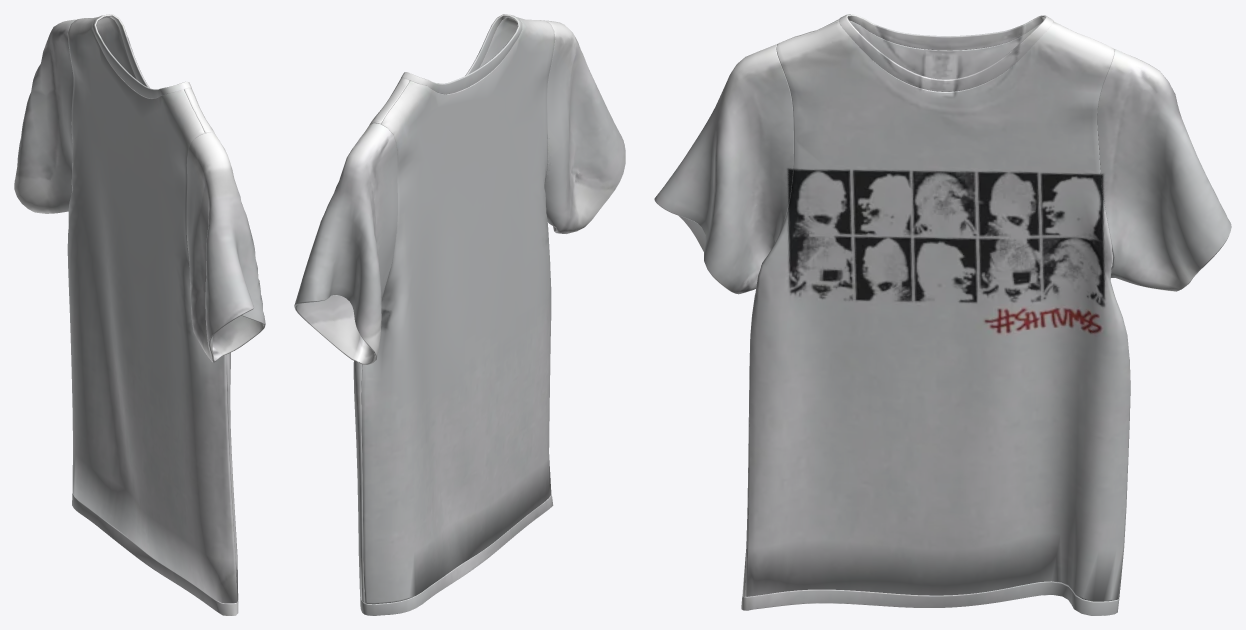
File: shitumss-tee.glb
3 views of the same model, side by side, from view 1: azimuth 30°, elevation 25°; view 2: azimuth 150°, elevation 25°; view 3: azimuth 270°, elevation 25° (orthographic). The views are drawn at different scales.
Visible parts, largest first — view 1: bottom_mesh_n3d%2E001_n3d; view 2: bottom_mesh_n3d%2E001_n3d; view 3: bottom_mesh_n3d%2E001_n3d.
Part boxes in pixels (x1,y1,x2,y2): bottom_mesh_n3d%2E001_n3d: (14, 14, 265, 615); bottom_mesh_n3d%2E001_n3d: (294, 14, 625, 615); bottom_mesh_n3d%2E001_n3d: (654, 14, 1231, 615).
Size of the model in its own units: 0.2669 by 1.44 by 1.27.
1 material, 1 textured.
